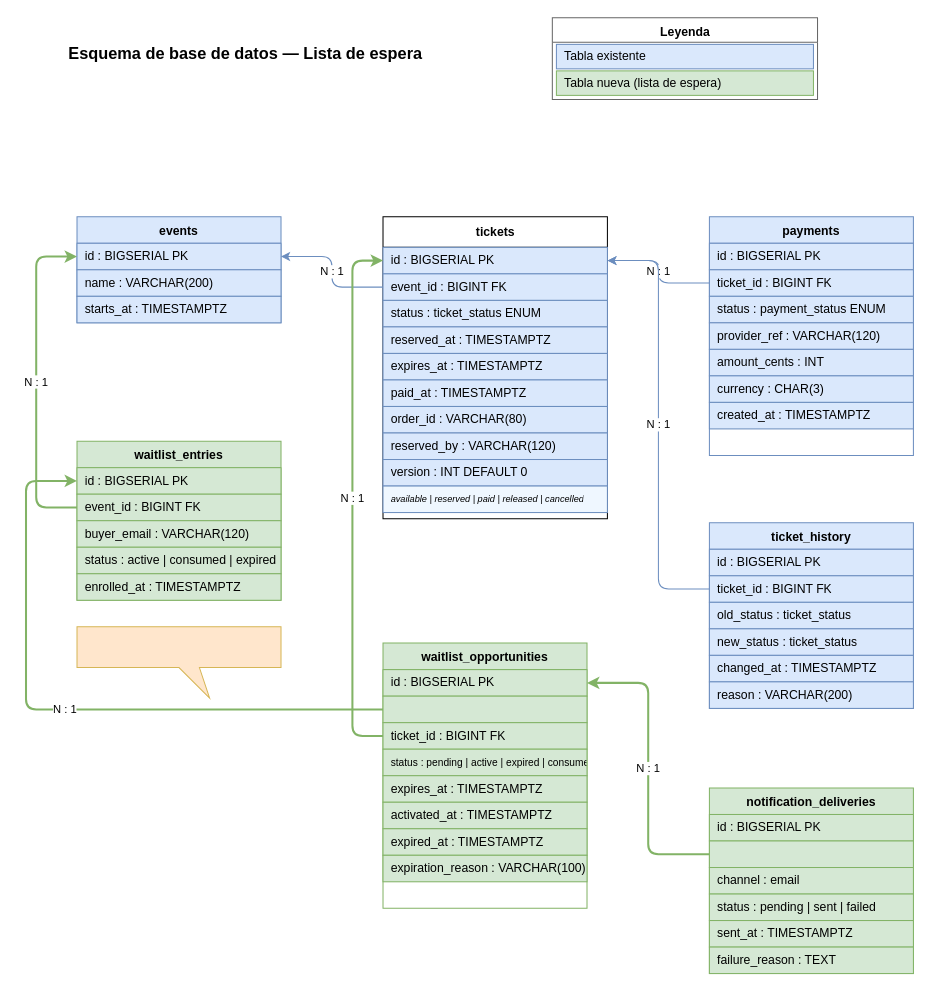
Some shapes in this 931 by 991 pixel diagram are drawn without their labels. Each missing label, with the centre of its shape:
"UNIQUE (event_id, buyer_email) WHERE status = 'active'" belongs at pixel 178 662.
"waitlist_entry_id : BIGINT FK" belongs at pixel 484 709.
"waitlist_opportunity_id : BIGINT FK" belongs at pixel 810 854.
